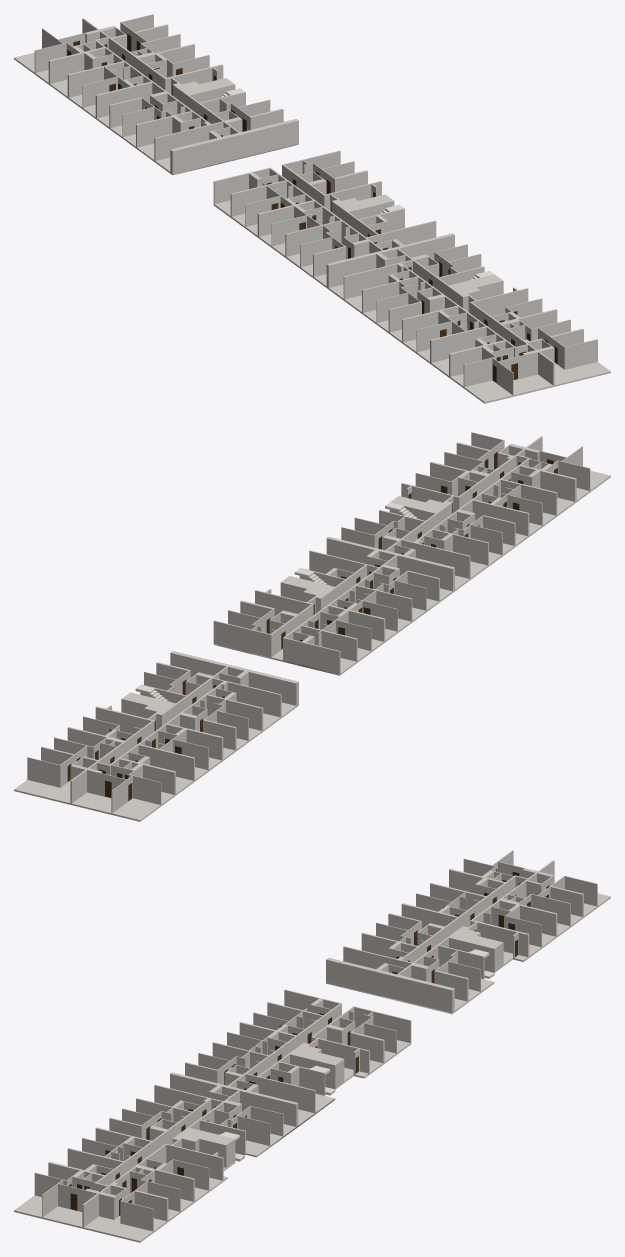
Rendered from floor_2_int.FBX.
3 views of the same model, one above another, from view 1: azimuth 30°, elevation 25°; view 2: azimuth 150°, elevation 25°; view 3: azimuth 330°, elevation 25° (orthographic).
Parts seen in each view (by area): view 1: floor_2_int; view 2: floor_2_int; view 3: floor_2_int.
Boxes of the visible parts, x1,y1,x2,y2 form: floor_2_int: (14, 14, 610, 403); floor_2_int: (14, 432, 610, 821); floor_2_int: (14, 850, 610, 1242).
Size of the model in its own units: 16.5 by 3.31 by 107.
